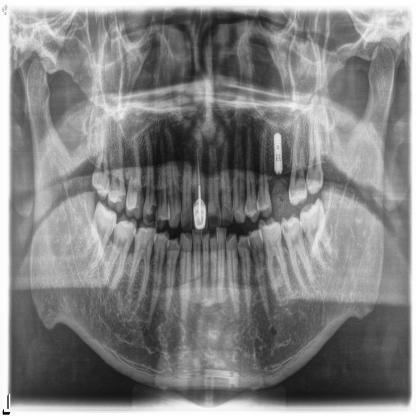ITI: (273, 132, 283, 176)
